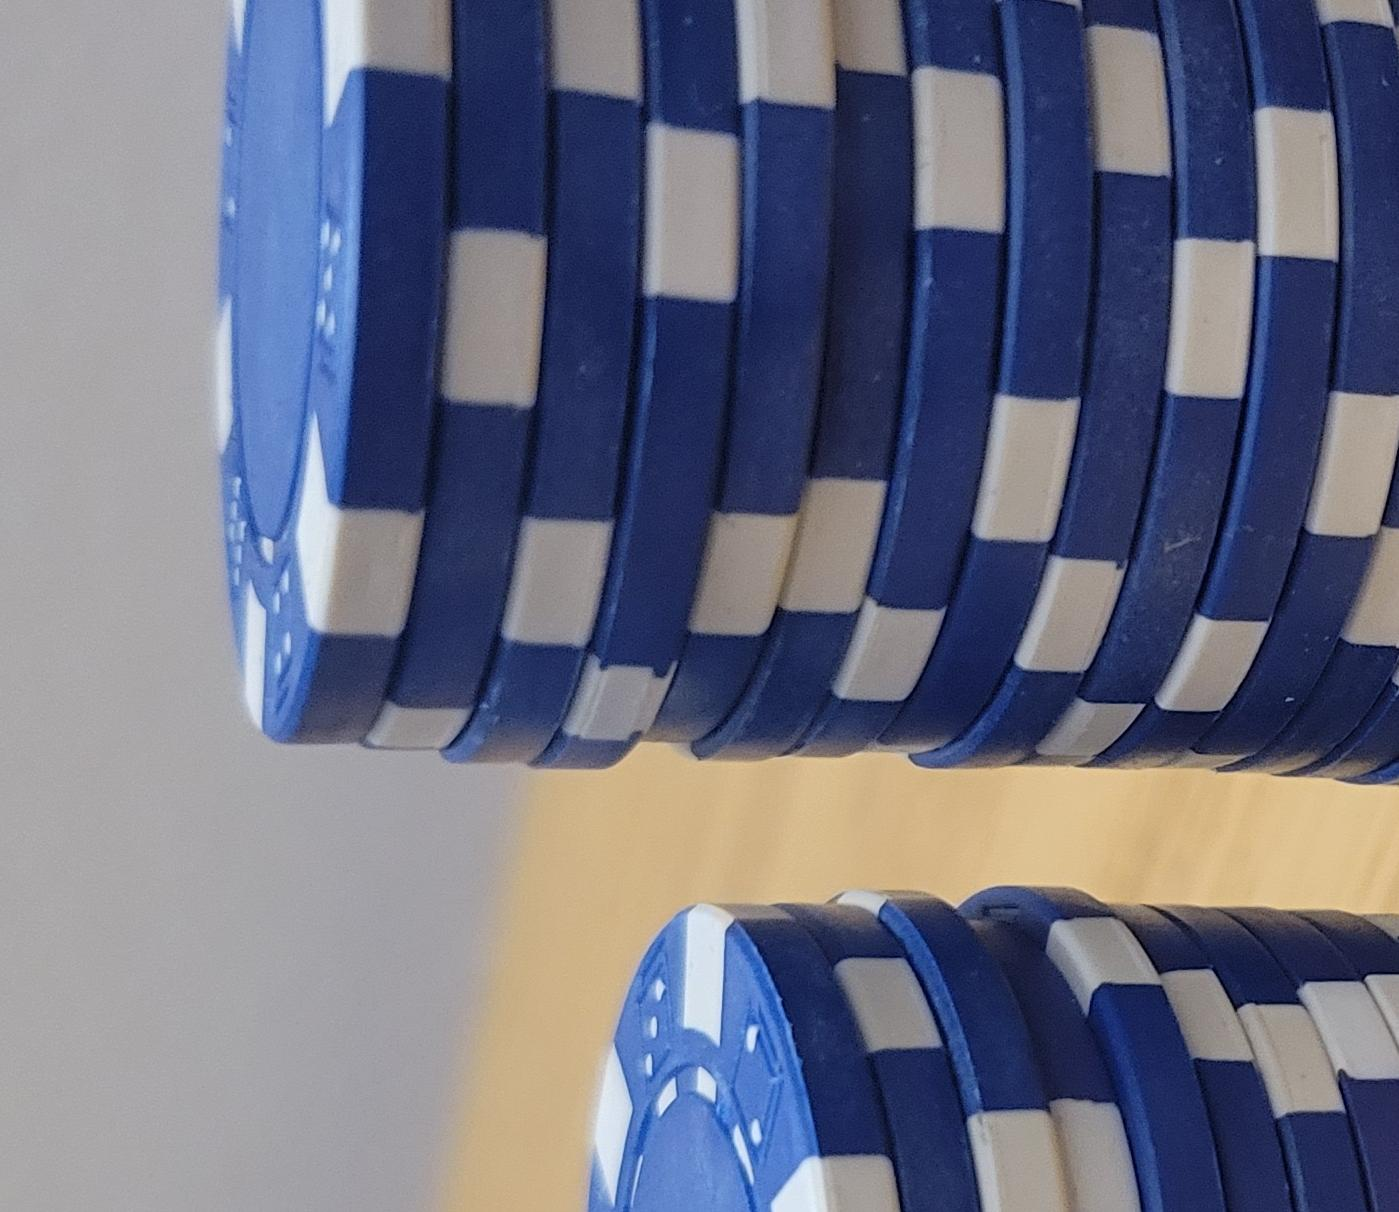Chip: (1, 243, 912, 1212)
